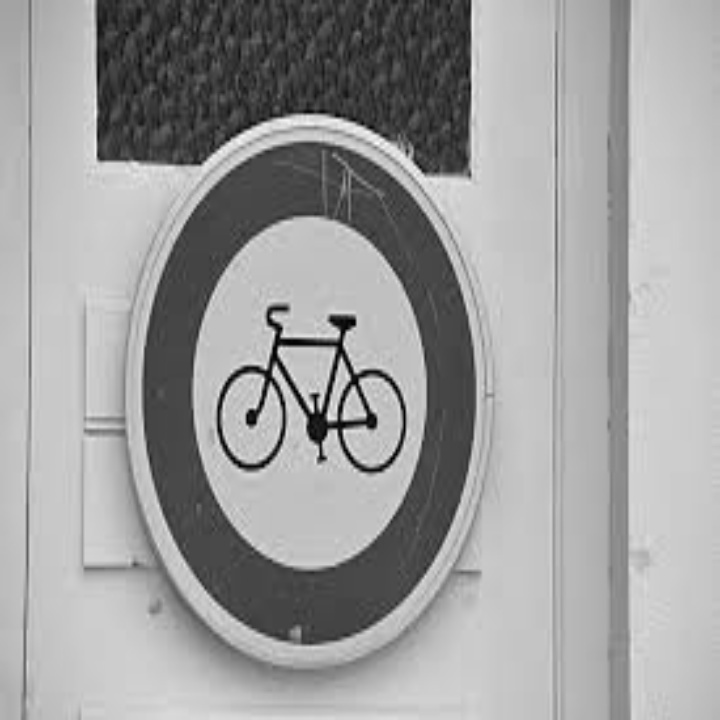bicycle: (193, 275, 423, 505)
